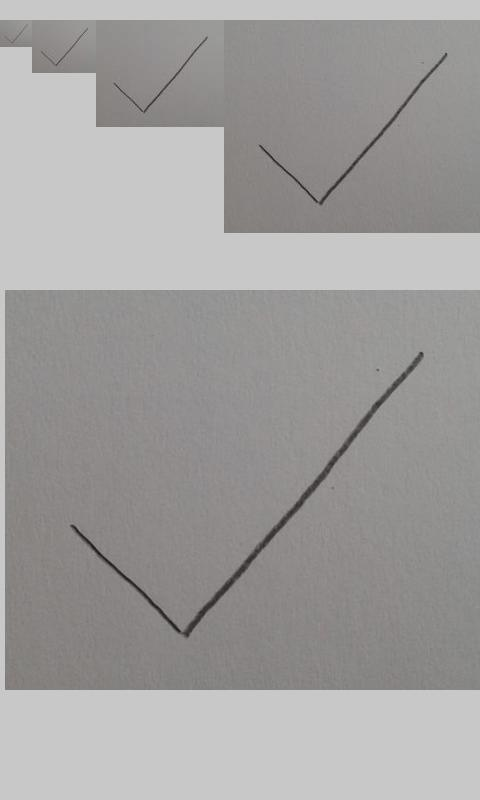check_box: (70, 351, 423, 640), (258, 53, 446, 205), (114, 36, 208, 114), (41, 28, 88, 66), (4, 25, 27, 44)
